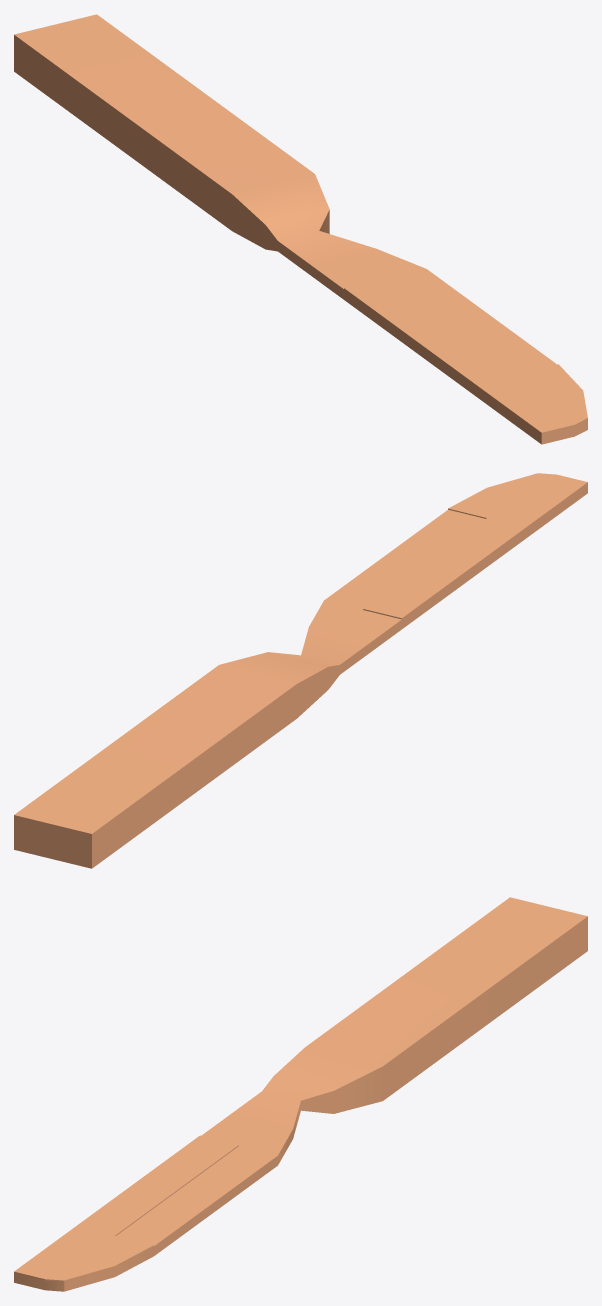
File: DinnerKnife01.fbx
3 renders of one model, top to bottom at view 1: azimuth 30°, elevation 25°; view 2: azimuth 150°, elevation 25°; view 3: azimuth 330°, elevation 25°, orthographic. The views are drawn at different scales.
Parts seen in each view (by area): view 1: Utensils01_Uv_v001:DinningKnife01_Modelling_v001:DinningKnif; view 2: Utensils01_Uv_v001:DinningKnife01_Modelling_v001:DinningKnif; view 3: Utensils01_Uv_v001:DinningKnife01_Modelling_v001:DinningKnif.
Part boxes in pixels (x1=…): Utensils01_Uv_v001:DinningKnife01_Modelling_v001:DinningKnif: x1=14, y1=14, x2=587, y2=444; Utensils01_Uv_v001:DinningKnife01_Modelling_v001:DinningKnif: x1=14, y1=473, x2=587, y2=868; Utensils01_Uv_v001:DinningKnife01_Modelling_v001:DinningKnif: x1=14, y1=897, x2=587, y2=1291.
Size of the model in its own units: 2.34 by 1 by 25.85.
1 material, 1 textured.
